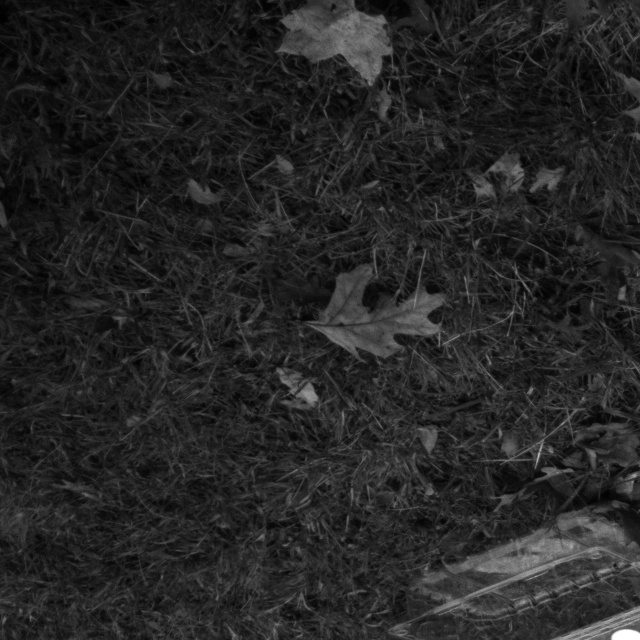container: (387, 493, 640, 640)
